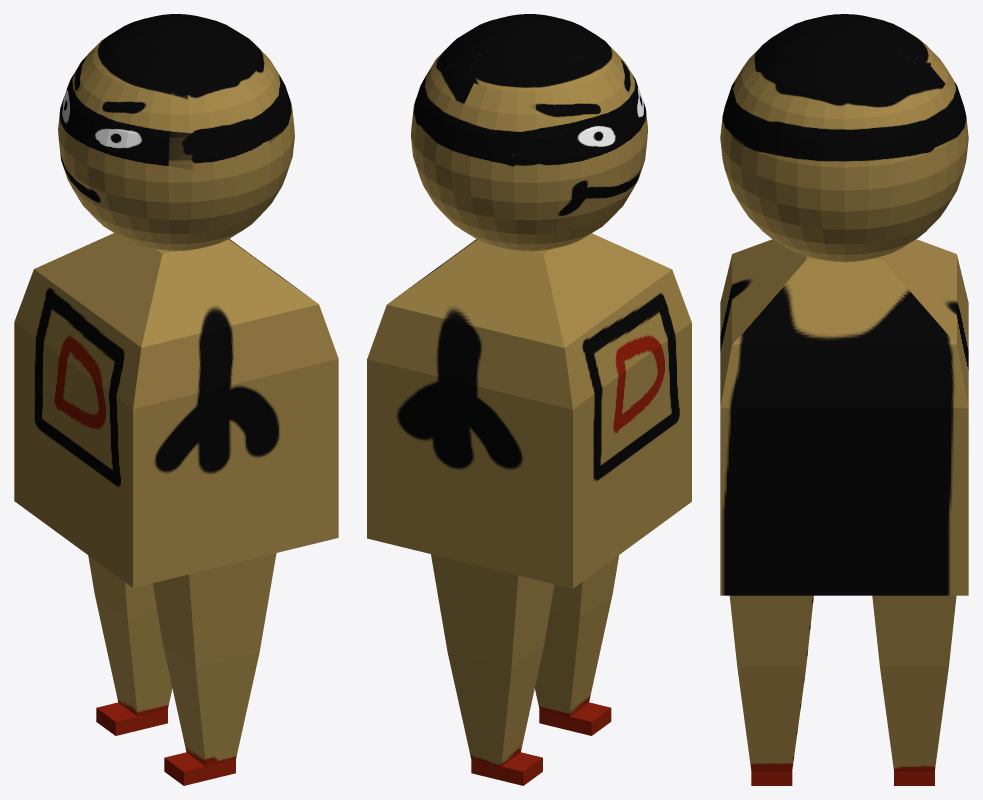
Rendered from dartman.glb.
3 renders of one model, left to right at view 1: azimuth 30°, elevation 25°; view 2: azimuth 150°, elevation 25°; view 3: azimuth 270°, elevation 25°, orthographic. The views are drawn at different scales.
Parts seen in each view (by area): view 1: Sphere; view 2: Sphere; view 3: Sphere.
Boxes of the visible parts, left/top/right/bottom form: Sphere: left=14, top=14, right=338, bottom=785; Sphere: left=367, top=14, right=691, bottom=785; Sphere: left=720, top=14, right=968, bottom=785.
Bounding box in the file's own units: 2 × 6.68 × 2.
Materials: 1 (1 with a texture image).
